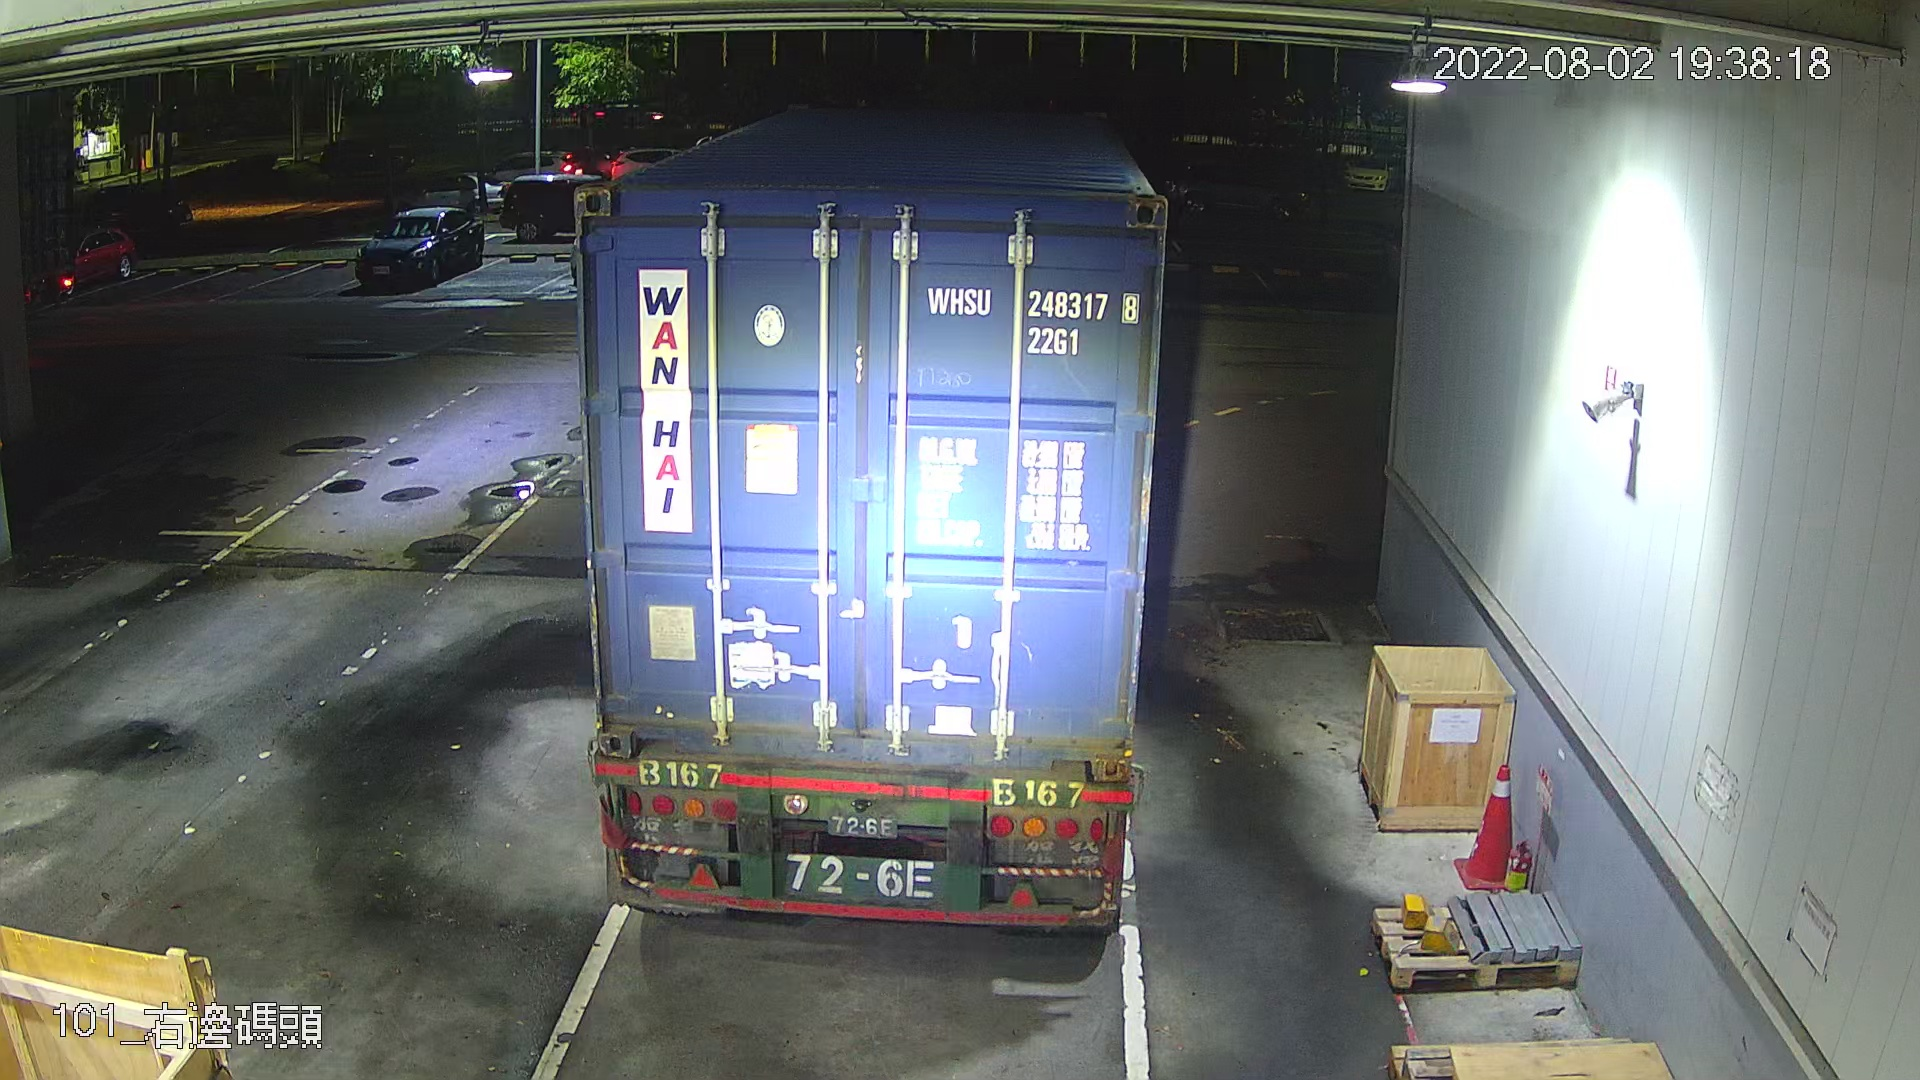container: (916, 273, 1151, 364)
